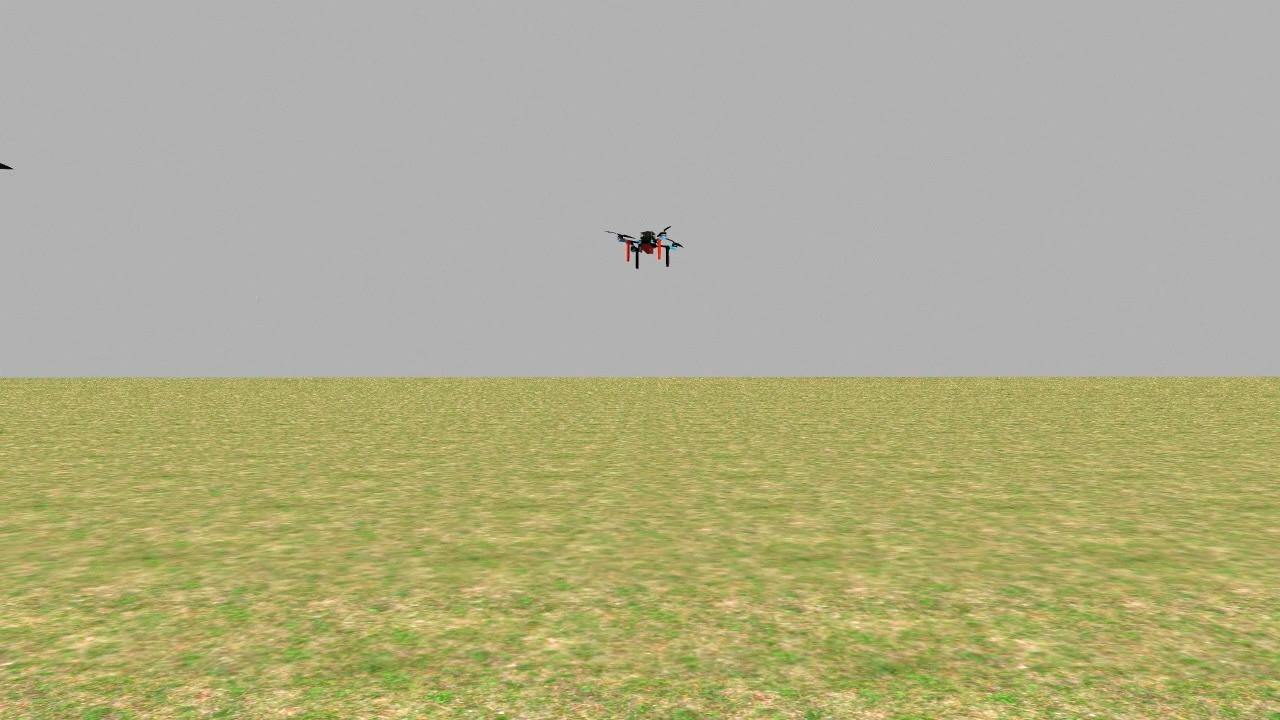UAV: (607, 220, 690, 271)
